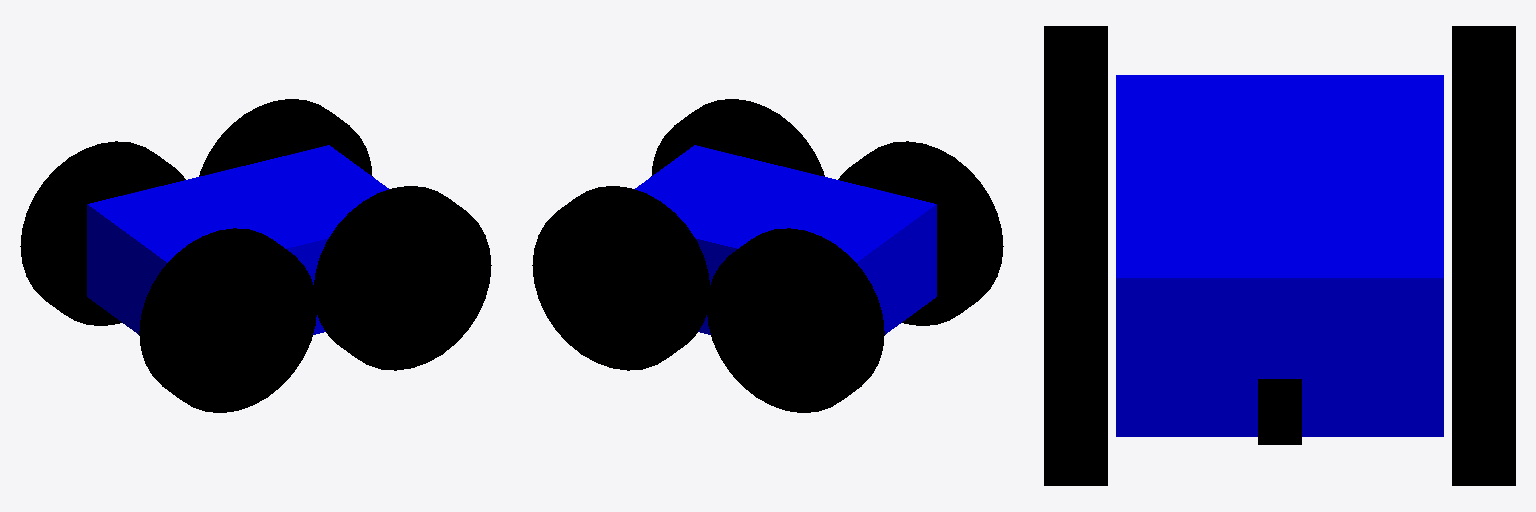
robot.urdf — smb:
<?xml version="1.0" ?>
<!-- =================================================================================== -->
<!-- |    This document was autogenerated by xacro from [local-path]/catkin_ws/src/smb_common/smb_description/urdf/smb_standalone.urdf.xacro | -->
<!-- |    EDITING THIS FILE BY HAND IS NOT RECOMMENDED                                 | -->
<!-- =================================================================================== -->
<robot name="smb"
  xmlns:xacro="http://www.ros.org/wiki/xacro">
  <!-- Materials -->
  <material name="black">
    <color rgba="0 0 0 255"/>
  </material>
  <material name="blue">
    <color rgba="0 0 200 255"/>
  </material>
  <material name="green">
    <color rgba="0 200 0 255"/>
  </material>
  <material name="grey">
    <color rgba="50 50 50 255"/>
  </material>
  <material name="orange">
    <color rgba="255 108 10 255"/>
  </material>
  <material name="brown">
    <color rgba="222 207 195 255"/>
  </material>
  <material name="red">
    <color rgba="200 0 0 255"/>
  </material>
  <material name="white">
    <color rgba="255 255 255 255"/>
  </material>
  <!-- continuous for gazebo -->
  <!-- Global Properties -->
  <!--xacro:property name="robot_name" value="smb"/-->
  <link name="base">
    <collision>
      <origin rpy="0 0 0" xyz="0 0 0"/>
      <geometry>
        <box size="0.6 0.41 0.22"/>
      </geometry>
    </collision>
    <visual>
      <origin rpy="0 0 0" xyz="0 0 0"/>
      <geometry>
        <box size="0.6 0.41 0.22"/>
      </geometry>
      <material name="blue"/>
    </visual>
  </link>

  <!-- Fixed joint to add dummy inertia link -->
  <joint name="base_to_base_inertia" type="fixed">
    <parent link="base"/>
    <child link="base_inertia"/>
    <origin rpy="0 0 0" xyz="0 0 0"/>
  </joint>
  <!-- Dummy inertia link, because KDL cannot have inertia on the base link -->
  <link name="base_inertia">
    <inertial>
      <origin rpy="0 0 0" xyz="0.0 -0.02 0.047"/>
      <mass value="74.62"/>
      <inertia ixx="0.721666666667" ixy="0" ixz="0" iyy="1.36133333333" iyz="0" izz="1.36133333333"/>
    </inertial>
  </link>

  <joint name="LF_WHEEL" type="continuous">
    <parent link="base"/>
    <child link="LF_WHEEL"/>
    <origin rpy="1.57079632679 0 0" xyz="0.2159 0.255 0.0"/>
    <axis rpy="0 0 0" xyz="0 0 1"/>
    <dynamics damping="0.0" friction="0.0"/>
    <limit effort="65" velocity="90"/>
    <joint_properties damping="0.2" friction="0.2"/>
  </joint>
  <link name="LF_WHEEL">
    <collision>
      <origin rpy="0 0 0" xyz="0 0 0"/>
      <geometry>
        <cylinder length="0.08" radius="0.1975"/>
      </geometry>
    </collision>
    <visual>
      <origin rpy="0 0 0" xyz="0 0 0"/>
      <geometry>
        <cylinder length="0.08" radius="0.1975"/>
      </geometry>
      <material name="black"/>
    </visual>
    <inertial>
      <origin rpy="0 0 0" xyz="0 0 0"/>
      <mass value="5.73"/>
      <inertia ixx="0.059" ixy="0" ixz="0" iyy="0.059" iyz="0" izz="0.112"/>
    </inertial>
  </link>

  <joint name="RF_WHEEL" type="continuous">
    <parent link="base"/>
    <child link="RF_WHEEL"/>
    <origin rpy="1.57079632679 0 0" xyz="0.2159 -0.255 0.0"/>
    <axis rpy="0 0 0" xyz="0 0 1"/>
    <dynamics damping="0.0" friction="0.0"/>
    <limit effort="65" velocity="90"/>
    <joint_properties damping="0.2" friction="0.2"/>
  </joint>
  <link name="RF_WHEEL">
    <collision>
      <origin rpy="0 0 0" xyz="0 0 0"/>
      <geometry>
        <cylinder length="0.08" radius="0.1975"/>
      </geometry>
    </collision>
    <visual>
      <origin rpy="0 0 0" xyz="0 0 0"/>
      <geometry>
        <cylinder length="0.08" radius="0.1975"/>
      </geometry>
      <material name="black"/>
    </visual>
    <inertial>
      <origin rpy="0 0 0" xyz="0 0 0"/>
      <mass value="5.73"/>
      <inertia ixx="0.059" ixy="0" ixz="0" iyy="0.059" iyz="0" izz="0.112"/>
    </inertial>
  </link>

  <joint name="LH_WHEEL" type="continuous">
    <parent link="base"/>
    <child link="LH_WHEEL"/>
    <origin rpy="1.57079632679 0 0" xyz="-0.2159 0.255 0.0"/>
    <axis rpy="0 0 0" xyz="0 0 1"/>
    <dynamics damping="0.0" friction="0.0"/>
    <limit effort="65" velocity="90"/>
    <joint_properties damping="0.2" friction="0.2"/>
  </joint>
  <link name="LH_WHEEL">
    <collision>
      <origin rpy="0 0 0" xyz="0 0 0"/>
      <geometry>
        <cylinder length="0.08" radius="0.1975"/>
      </geometry>
    </collision>
    <visual>
      <origin rpy="0 0 0" xyz="0 0 0"/>
      <geometry>
        <cylinder length="0.08" radius="0.1975"/>
      </geometry>
      <material name="black"/>
    </visual>
    <inertial>
      <origin rpy="0 0 0" xyz="0 0 0"/>
      <mass value="5.73"/>
      <inertia ixx="0.059" ixy="0" ixz="0" iyy="0.059" iyz="0" izz="0.112"/>
    </inertial>
  </link>

  <joint name="RH_WHEEL" type="continuous">
    <parent link="base"/>
    <child link="RH_WHEEL"/>
    <origin rpy="1.57079632679 0 0" xyz="-0.2159 -0.255 0.0"/>
    <axis rpy="0 0 0" xyz="0 0 1"/>
    <dynamics damping="0.0" friction="0.0"/>
    <limit effort="65" velocity="90"/>
    <joint_properties damping="0.2" friction="0.2"/>
  </joint>
  <link name="RH_WHEEL">
    <collision>
      <origin rpy="0 0 0" xyz="0 0 0"/>
      <geometry>
        <cylinder length="0.08" radius="0.1975"/>
      </geometry>
    </collision>
    <visual>
      <origin rpy="0 0 0" xyz="0 0 0"/>
      <geometry>
        <cylinder length="0.08" radius="0.1975"/>
      </geometry>
      <material name="black"/>
    </visual>
    <inertial>
      <origin rpy="0 0 0" xyz="0 0 0"/>
      <mass value="5.73"/>
      <inertia ixx="0.059" ixy="0" ixz="0" iyy="0.059" iyz="0" izz="0.112"/>
    </inertial>
  </link>

  <link name="imu">
    <visual>
      <origin rpy="0 0 0" xyz="0 0 0"/>
      <geometry>
        <box size="0.08 0.055 0.024"/>
      </geometry>
      <material name="black"/>
    </visual>
  </link>
  <joint name="imu" type="fixed">
    <parent link="base"/>
    <child link="imu"/>
    <origin rpy="3.14159 1.57079632679 0" xyz="0.312 0 -0.07"/>
  </joint>

</robot>

--- Render facts (derived) ---
The picture shows the robot from 3 angles, left to right: view 1: azimuth 30°, elevation 25°; view 2: azimuth 150°, elevation 25°; view 3: azimuth 270°, elevation 25°; orthographic projection.
Robot: smb — 7 links, 6 joints (4 continuous, 2 fixed); root link base; default pose: all joints at 0.
Links seen in each view (by area): view 1: RH_WHEEL, RF_WHEEL, base, LH_WHEEL, LF_WHEEL; view 2: LH_WHEEL, LF_WHEEL, base, RH_WHEEL, RF_WHEEL; view 3: base, LF_WHEEL, RF_WHEEL, LH_WHEEL, RH_WHEEL, imu.
Link boxes in pixels (box(x1,y1,x2,y2)): RH_WHEEL: box(139, 228, 316, 412); RF_WHEEL: box(314, 186, 491, 370); base: box(87, 145, 388, 334); LH_WHEEL: box(20, 141, 185, 325); LF_WHEEL: box(199, 99, 372, 176); LH_WHEEL: box(707, 228, 884, 412); LF_WHEEL: box(532, 186, 709, 370); base: box(635, 145, 936, 334); RH_WHEEL: box(838, 141, 1003, 325); RF_WHEEL: box(651, 99, 824, 176); base: box(1116, 75, 1443, 436); LF_WHEEL: box(1452, 171, 1515, 485); RF_WHEEL: box(1044, 171, 1107, 485); LH_WHEEL: box(1452, 26, 1515, 170); RH_WHEEL: box(1044, 26, 1107, 170); imu: box(1258, 379, 1301, 444).
Bounding box of the posed robot: 0.8268 × 0.59 × 0.395 m (x, y, z).
Geometry: primitives only (box / cylinder / sphere), no mesh files.